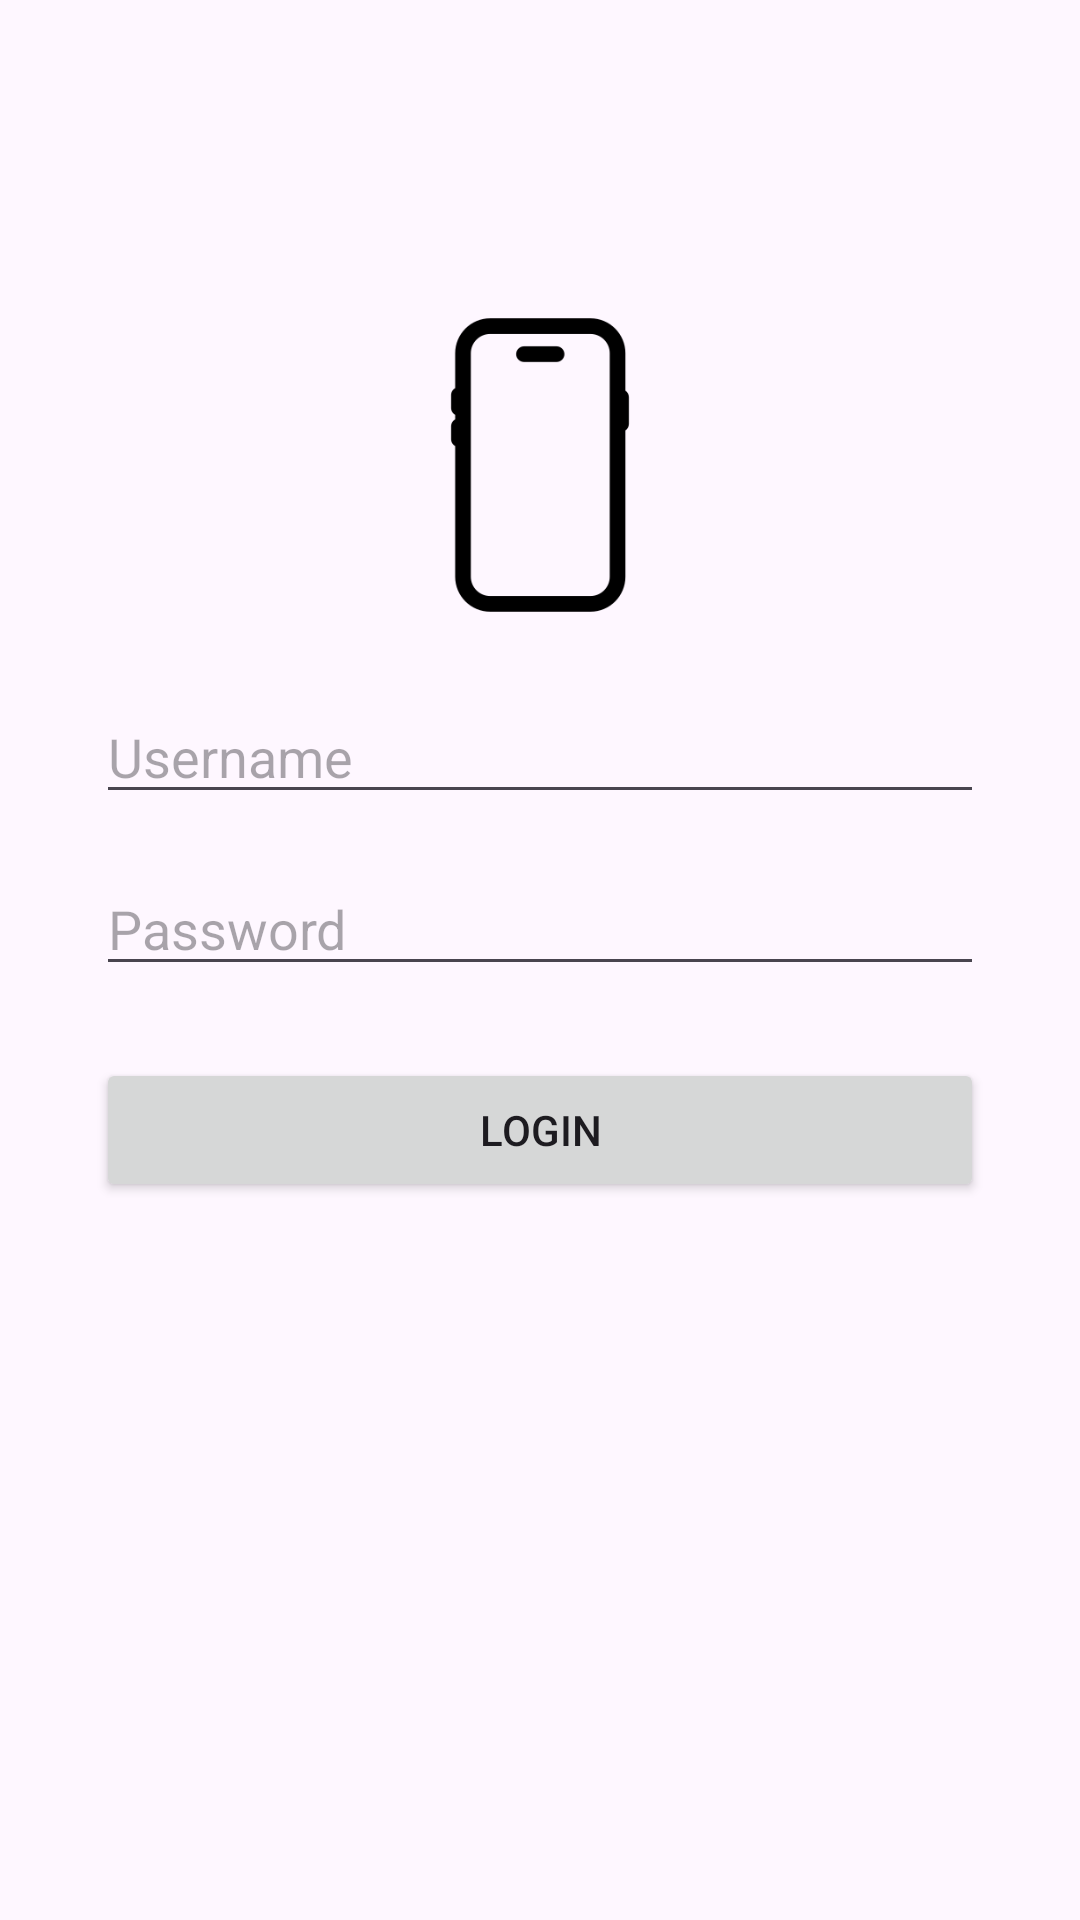

Point at icon controls on the screen. Image size 1080w x 1920h, points as (x,y).
handphone: (540,465)
